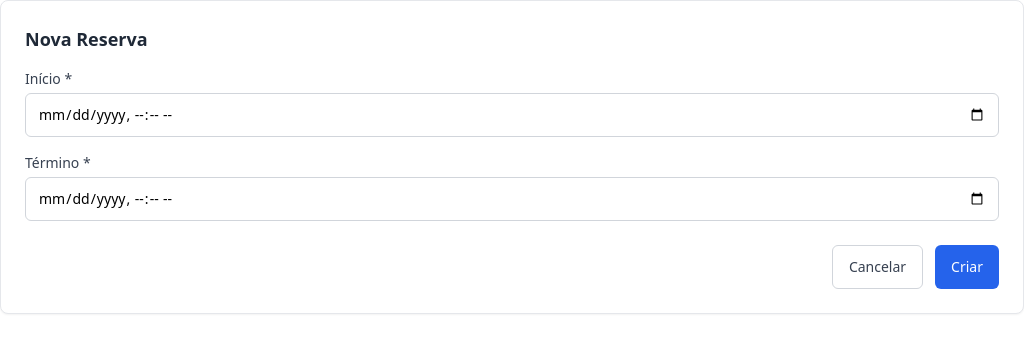
Test case: ReservationForm › shows validation error when endAt is empty
In the field labelled "Início *": (512, 115) x1=25 y1=93 x2=999 y2=137, type "2025-06-01T14:00"
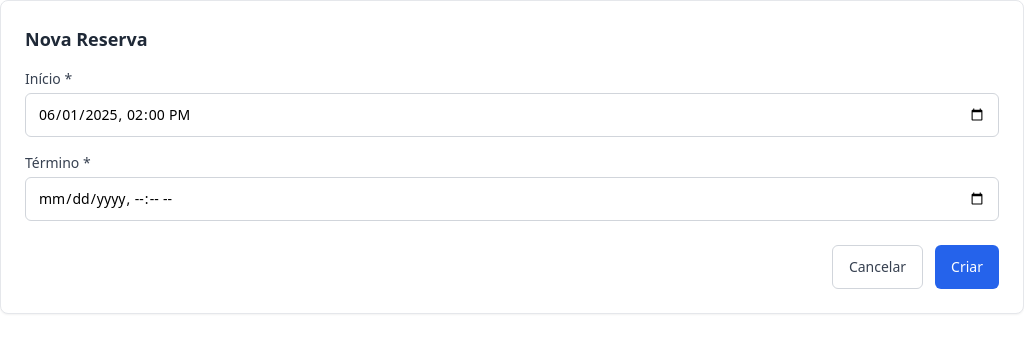
Click the button "Criar": (967, 267) x1=935 y1=245 x2=999 y2=289
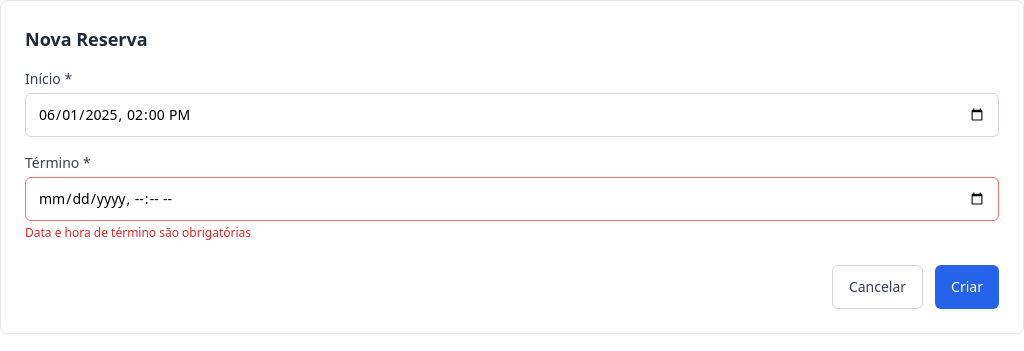
expect the text "Data e hora de término são obrigatórias" is shown: met, box x1=25 y1=224 x2=251 y2=241
